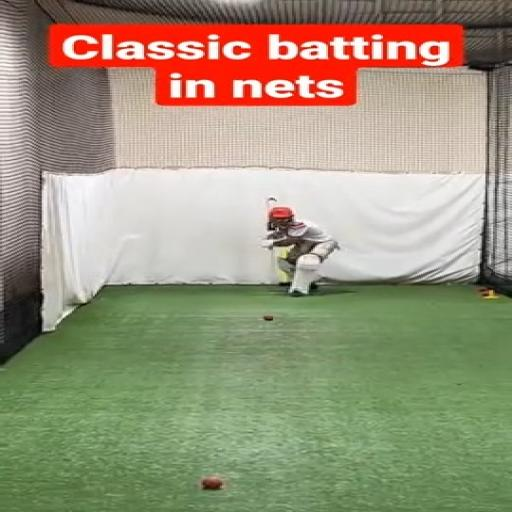Cricket bat: (267, 197, 277, 231)
